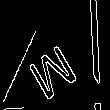M_SE: (24, 37, 83, 105)
